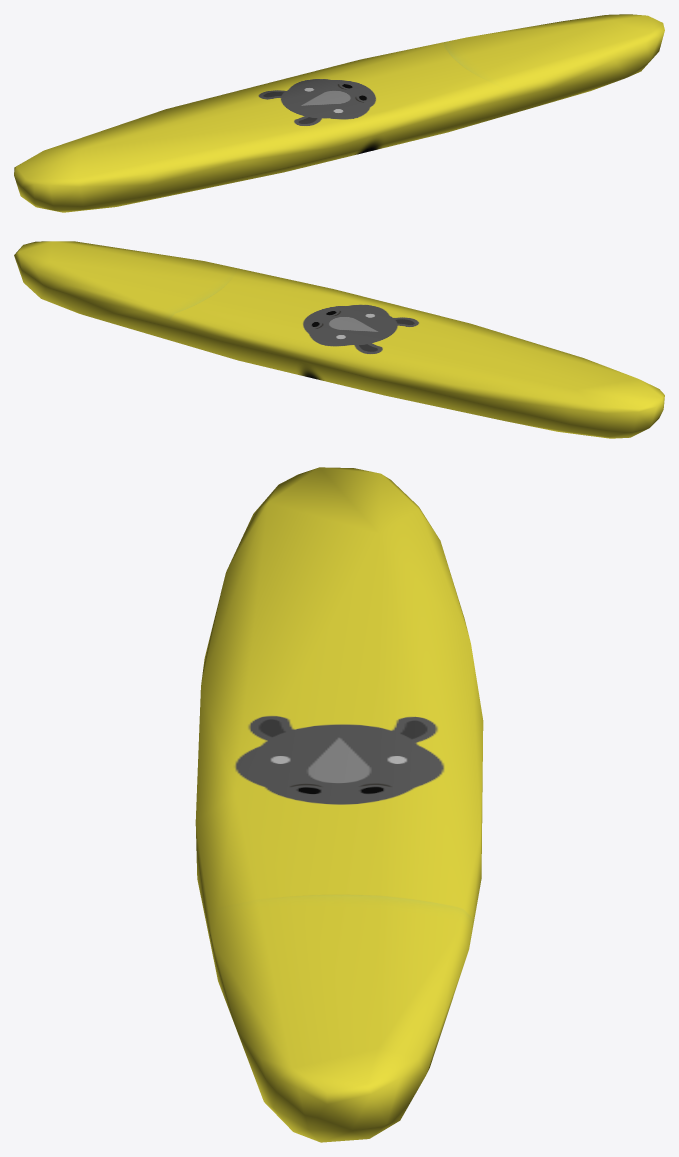
Rendered from yut-rhino-new.glb.
3 renders of one model, top to bottom at view 1: azimuth 30°, elevation 25°; view 2: azimuth 150°, elevation 25°; view 3: azimuth 270°, elevation 25°, orthographic. The views are drawn at different scales.
Parts seen in each view (by area): view 1: Cube.002; view 2: Cube.002; view 3: Cube.002.
Part boxes in pixels (x1,y1,x2,y2): Cube.002: (14,14,664,212); Cube.002: (14,241,664,438); Cube.002: (195,467,483,1142).
Size of the model in its own units: 12.55 by 0.9041 by 2.44.
Materials: 1 (1 with a texture image).
